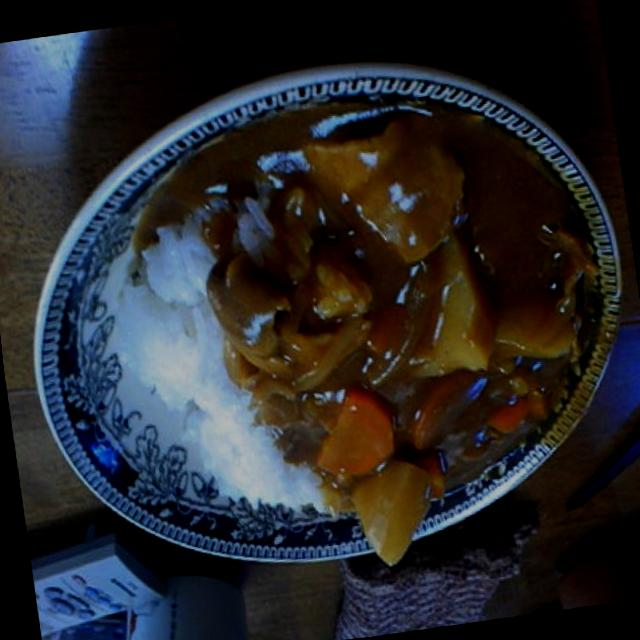Beef Curry: (212, 84, 624, 530)
